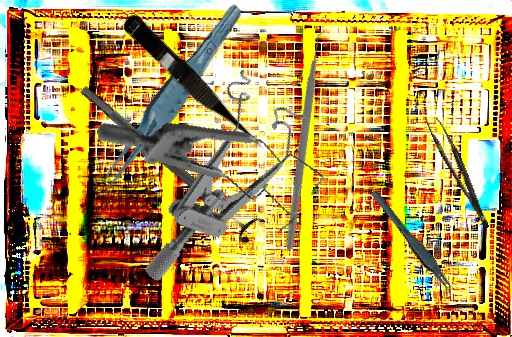Chopper: (212, 26, 410, 251)
Fixation Ring: (72, 75, 267, 247)
Micro Scissor: (116, 10, 272, 162)
Speculum: (95, 74, 335, 269), (142, 59, 314, 311)
Tissue Forceps: (79, 1, 258, 199), (369, 181, 458, 306), (425, 112, 490, 235)
